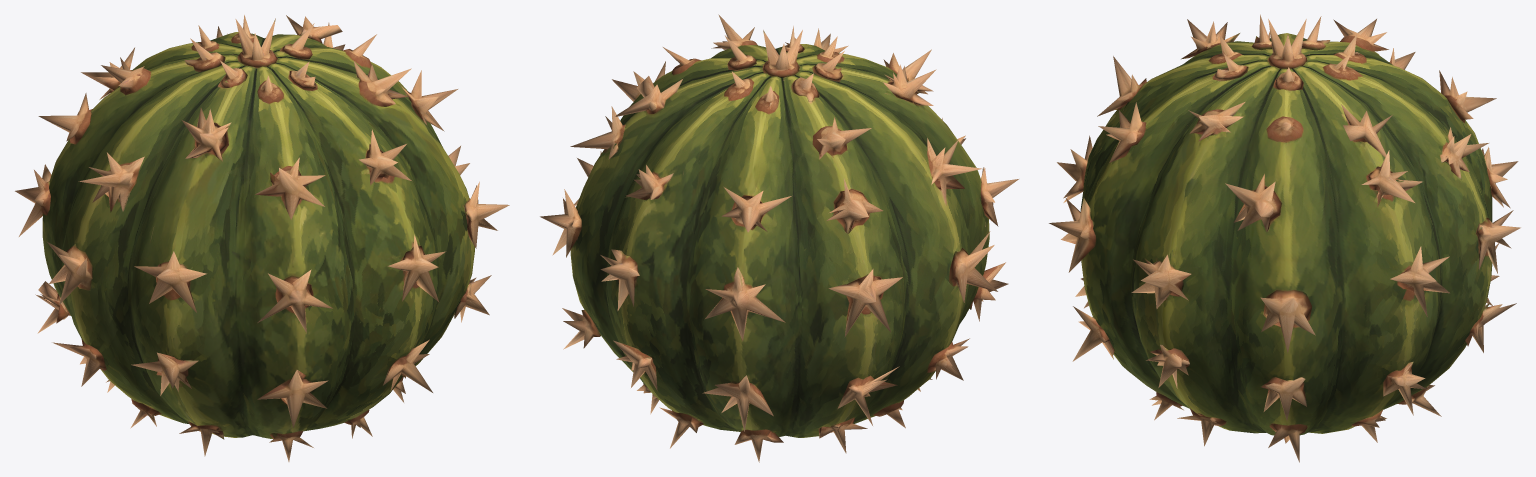
The model's file is Meshy_AI_Spiked_Melon_Sphere_20261026_texture.fbx.
3 renders of one model, left to right at view 1: azimuth 30°, elevation 25°; view 2: azimuth 150°, elevation 25°; view 3: azimuth 270°, elevation 25°, orthographic. The views are drawn at different scales.
Parts seen in each view (by area): view 1: Mesh_0; view 2: Mesh_0; view 3: Mesh_0.
Part boxes in pixels (x1=…): Mesh_0: x1=15, y1=15, x2=509, y2=461; Mesh_0: x1=540, y1=14, x2=1018, y2=462; Mesh_0: x1=1049, y1=14, x2=1520, y2=462.
Size of the model in its own units: 95.02 by 85.84 by 92.92.
1 material, 1 textured.
